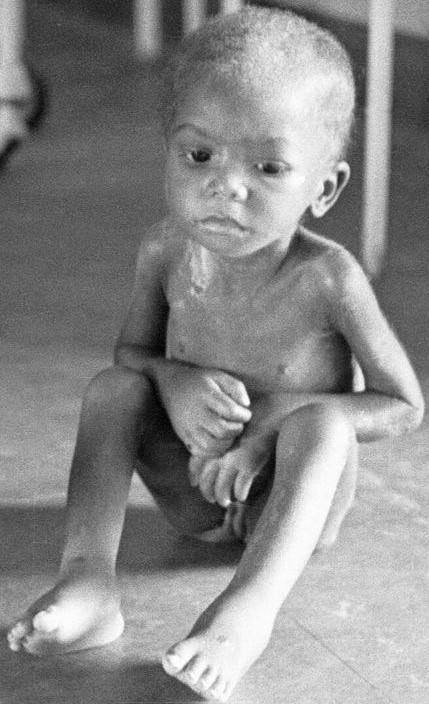Stunting: (120, 0, 384, 300)
